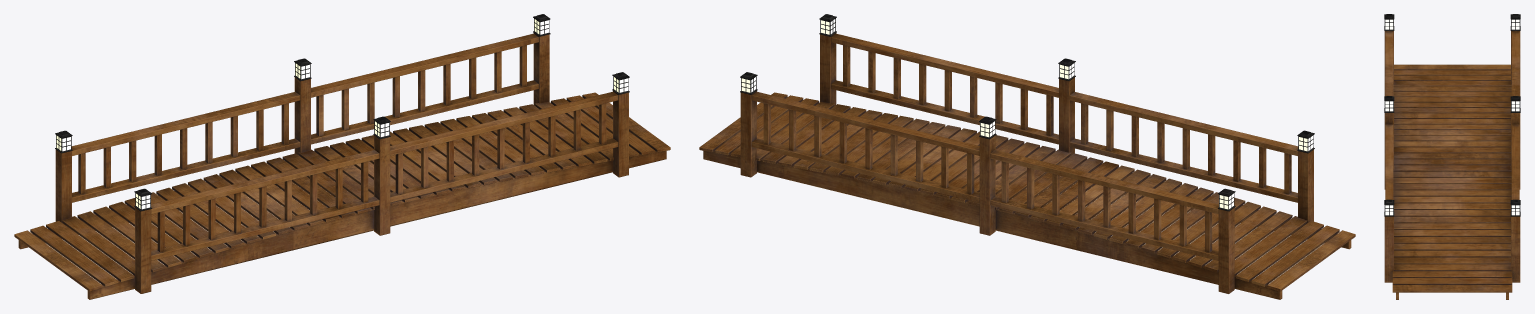
File: wood_bridge_max_mental_ray_2015.fbx
3 views of the same model, side by side, from view 1: azimuth 30°, elevation 25°; view 2: azimuth 150°, elevation 25°; view 3: azimuth 270°, elevation 25° (orthographic). The views are drawn at different scales.
Parts seen in each view (by area): view 1: wood_bridge_floor, wood_bridge_sides, wood_bridge_light_covers, wood_bridge_lights; view 2: wood_bridge_floor, wood_bridge_sides, wood_bridge_light_covers, wood_bridge_lights; view 3: wood_bridge_floor, wood_bridge_sides, wood_bridge_light_covers, wood_bridge_lights.
Boxes of the visible parts, x1=… form: wood_bridge_floor: x1=14, y1=92, x2=670, y2=299; wood_bridge_sides: x1=55, y1=33, x2=628, y2=293; wood_bridge_light_covers: x1=55, y1=14, x2=629, y2=211; wood_bridge_lights: x1=56, y1=19, x2=628, y2=209; wood_bridge_floor: x1=699, y1=92, x2=1355, y2=299; wood_bridge_sides: x1=740, y1=33, x2=1313, y2=293; wood_bridge_light_covers: x1=740, y1=14, x2=1314, y2=211; wood_bridge_lights: x1=741, y1=19, x2=1313, y2=209; wood_bridge_floor: x1=1392, y1=64, x2=1512, y2=299; wood_bridge_sides: x1=1384, y1=31, x2=1520, y2=282; wood_bridge_light_covers: x1=1384, y1=14, x2=1520, y2=216; wood_bridge_lights: x1=1385, y1=19, x2=1519, y2=215.
Bounding box in the file's own units: 1401 × 263 × 358.
2 materials, 2 textured.
